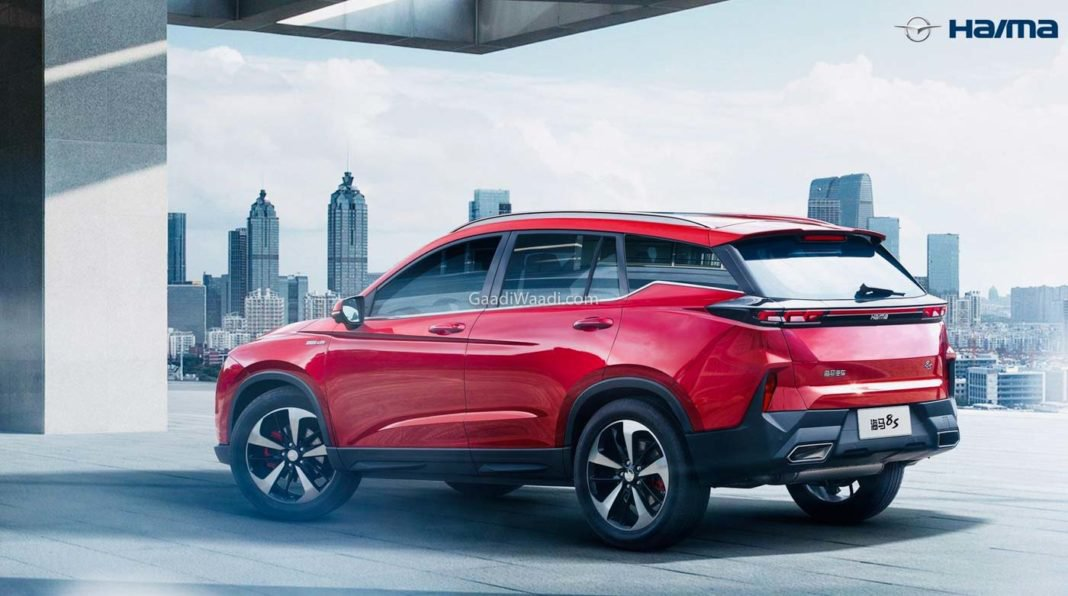car: (215, 201, 963, 530)
